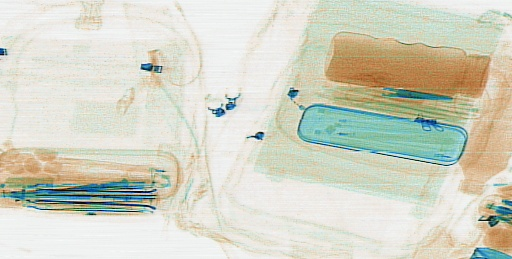scissors: (344, 72, 454, 103)
